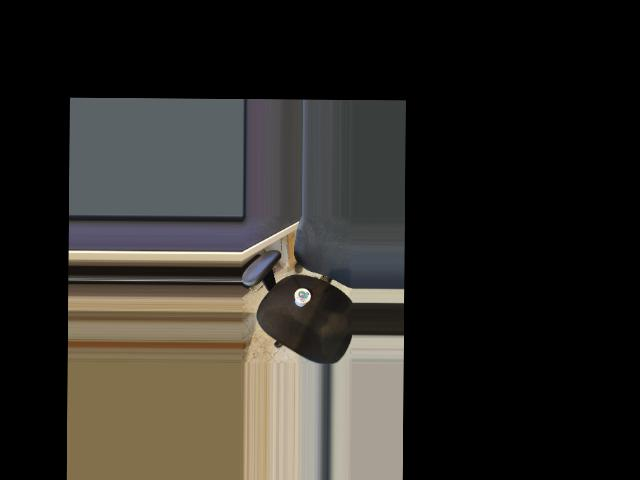cotage: (293, 287, 314, 310)
